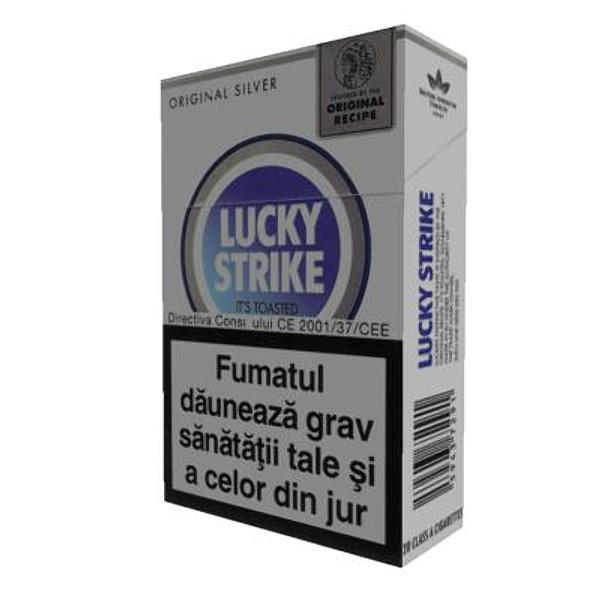lucky_strike_blue: (158, 77, 403, 511)
